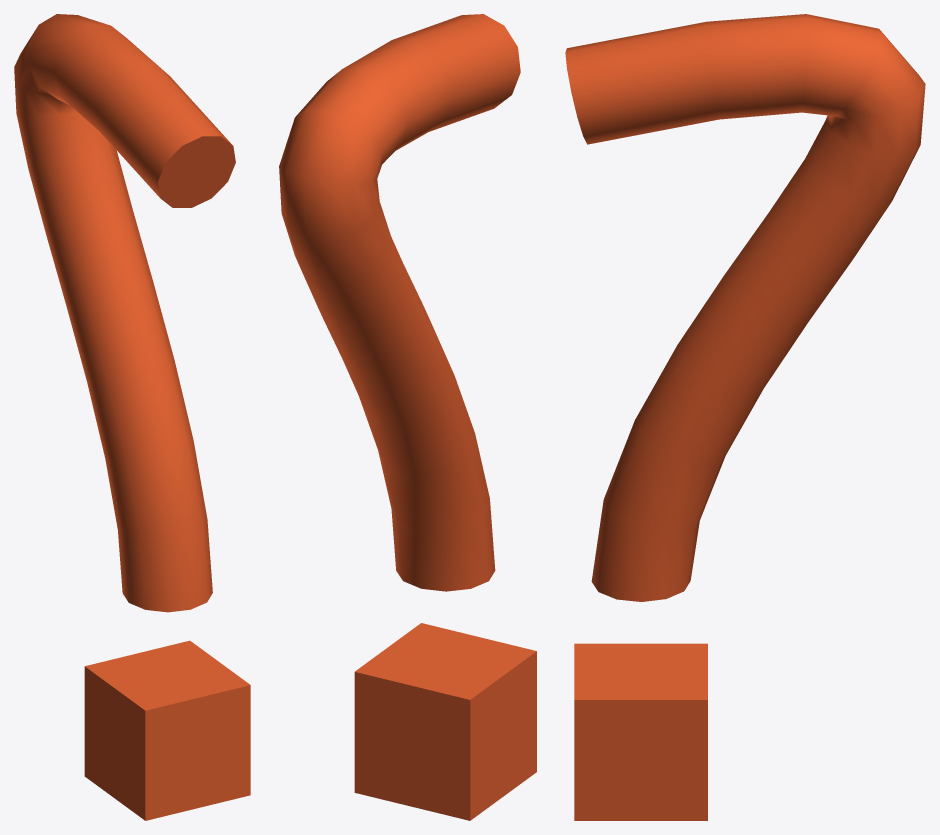
Rendered from Question Mark.fbx.
3 views of the same model, side by side, from view 1: azimuth 30°, elevation 25°; view 2: azimuth 150°, elevation 25°; view 3: azimuth 270°, elevation 25° (orthographic). The views are drawn at different scales.
Parts seen in each view (by area): view 1: BezierCurve, Cube; view 2: BezierCurve, Cube; view 3: BezierCurve, Cube.
Boxes of the visible parts, x1=… form: BezierCurve: x1=14, y1=14, x2=235, y2=612; Cube: x1=84, y1=640, x2=250, y2=820; BezierCurve: x1=279, y1=14, x2=520, y2=591; Cube: x1=354, y1=623, x2=536, y2=820; BezierCurve: x1=565, y1=14, x2=925, y2=601; Cube: x1=574, y1=643, x2=707, y2=820.
Size of the model in its own units: 43.08 by 276 by 116.
